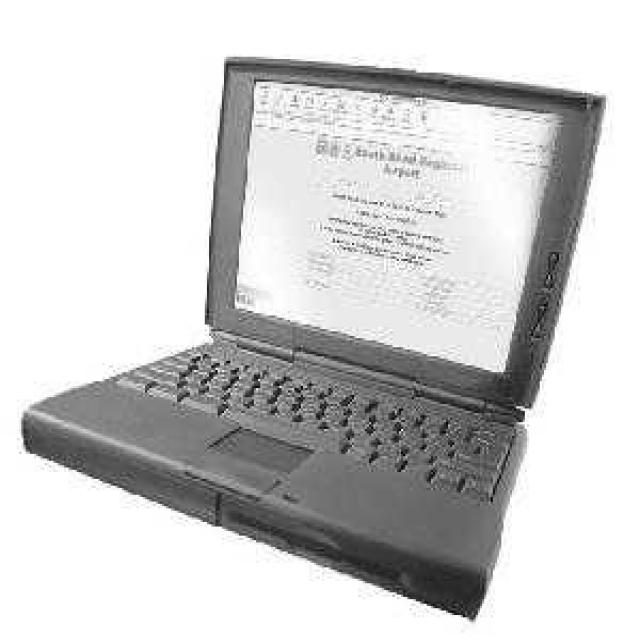laptop: (19, 31, 617, 604)
